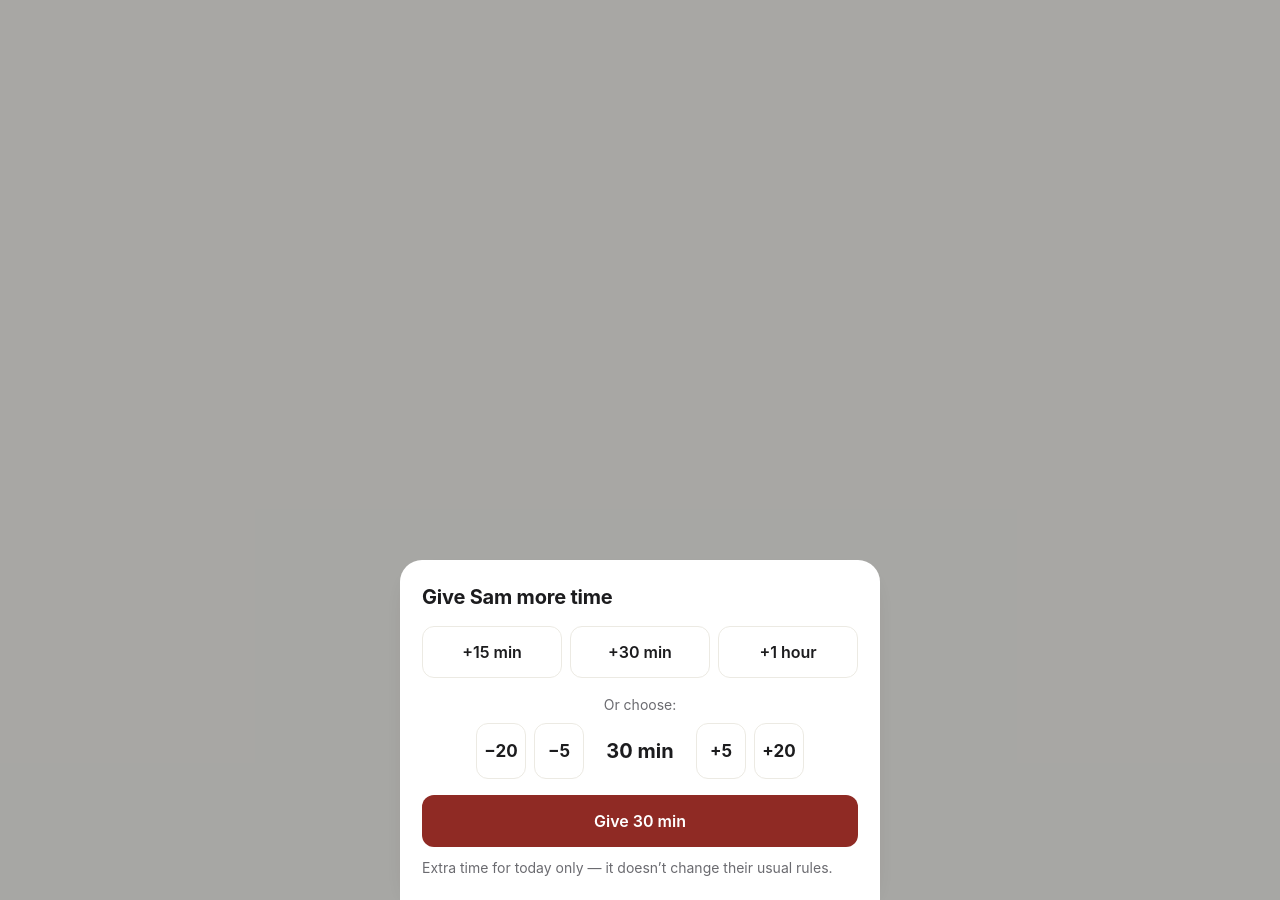
Scenario: LeverSheet › give › the outer buttons jump by twenty, and clamp at the ends like the fives
What coordinates should you click on to do the following:
click the button "+20"
I would click on:
 (779, 751)
Its box is [754,723,804,779].
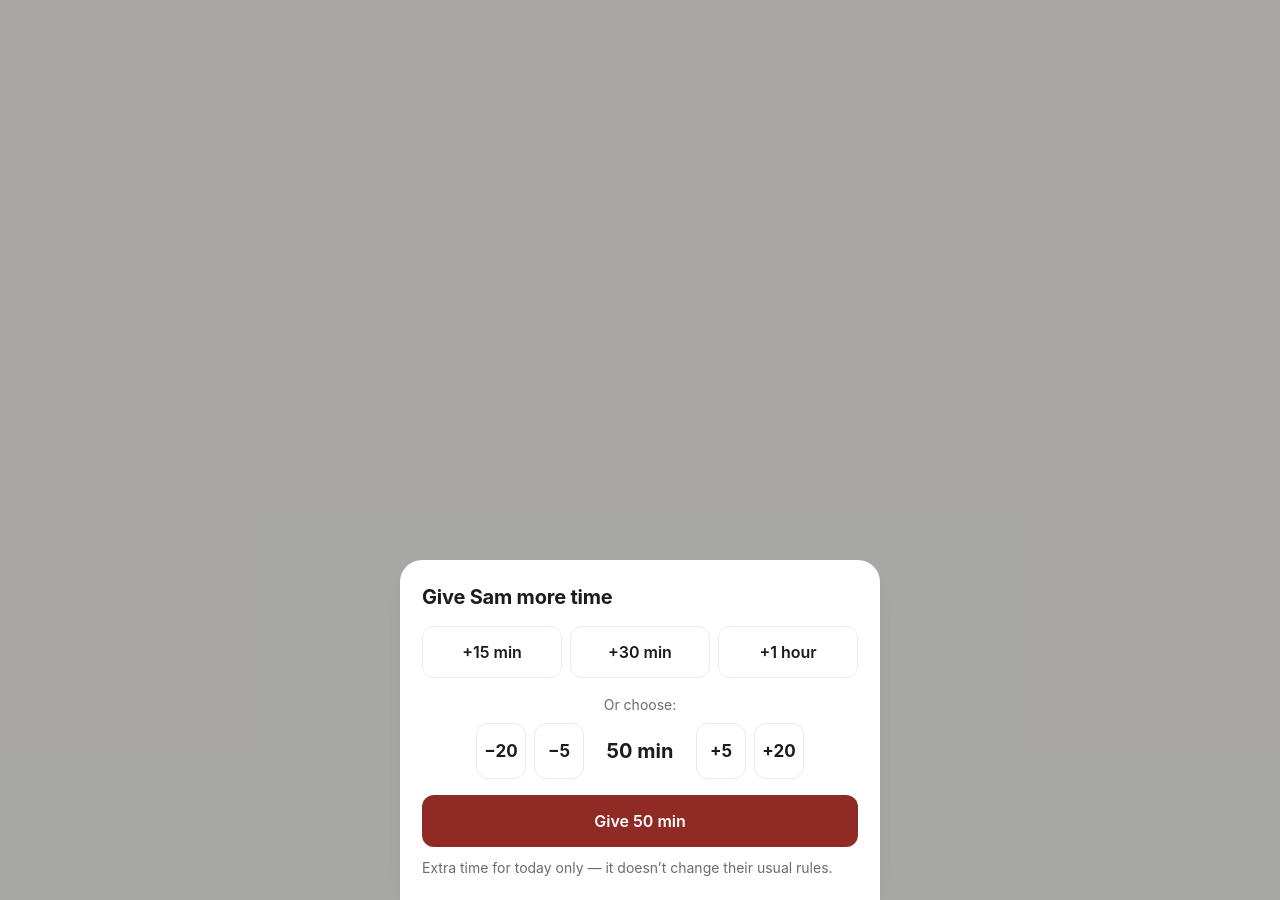
Result: the text "50 min" is shown at [607,739,673,763]
What coordinates should you click on to do the following:
click the button "−20"
I would click on:
 (501, 751)
Its box is [476,723,526,779].
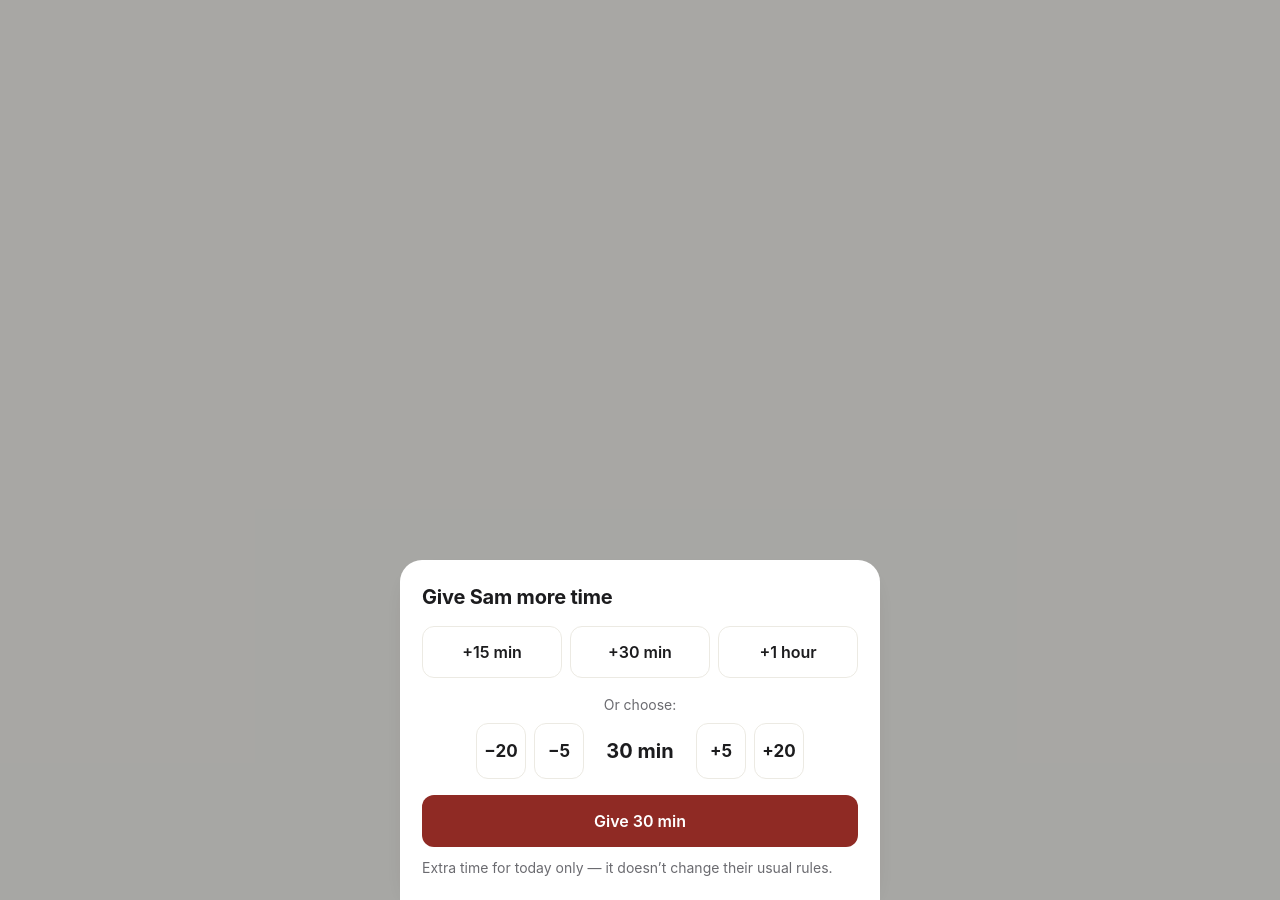
What coordinates should you click on to do the following:
click the button "−20"
I would click on:
 (501, 751)
Its box is [476,723,526,779].
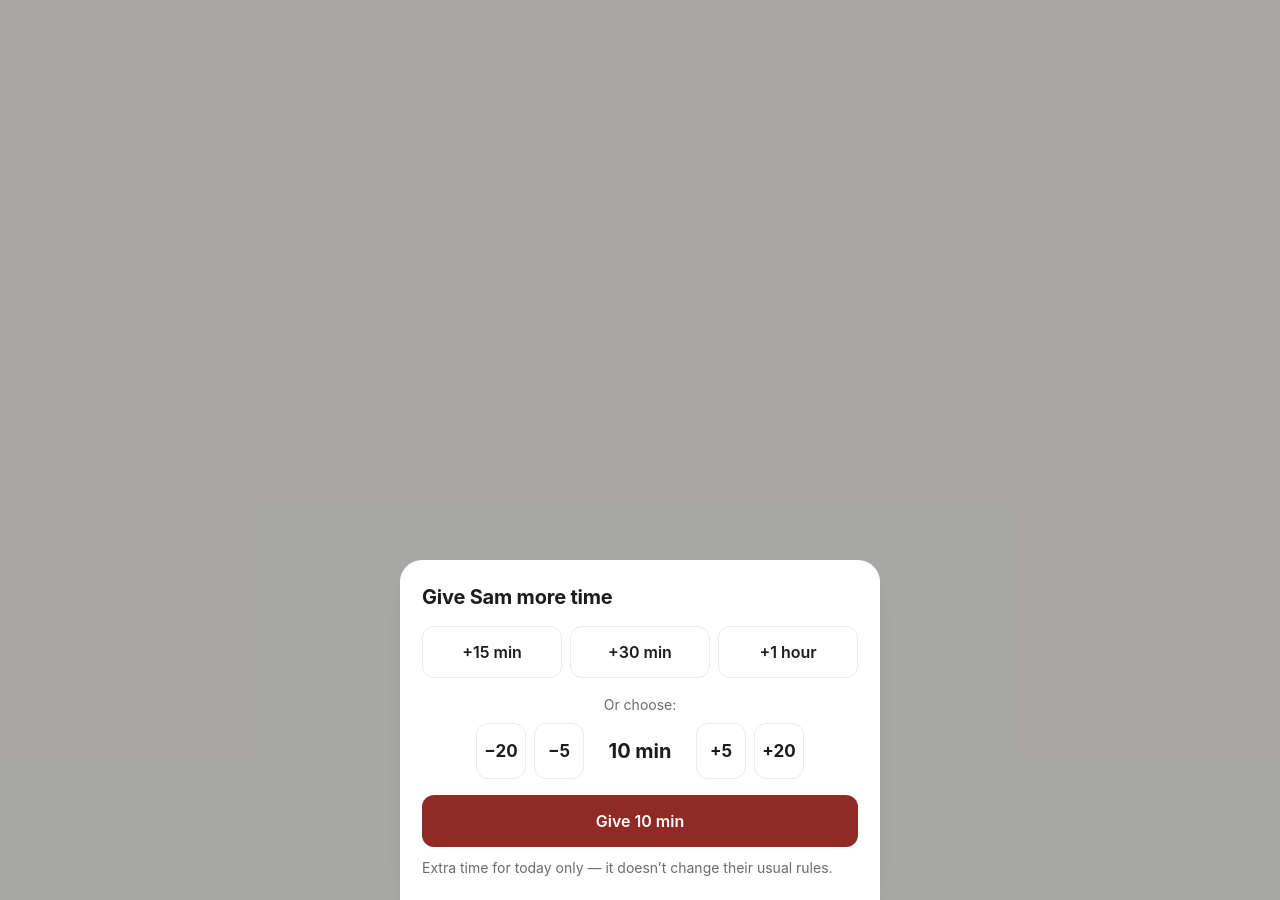
Result: the text "10 min" is shown at [608,739,672,763]
What coordinates should you click on to do the following:
click the button "−20"
I would click on:
 (501, 751)
Its box is [476,723,526,779].
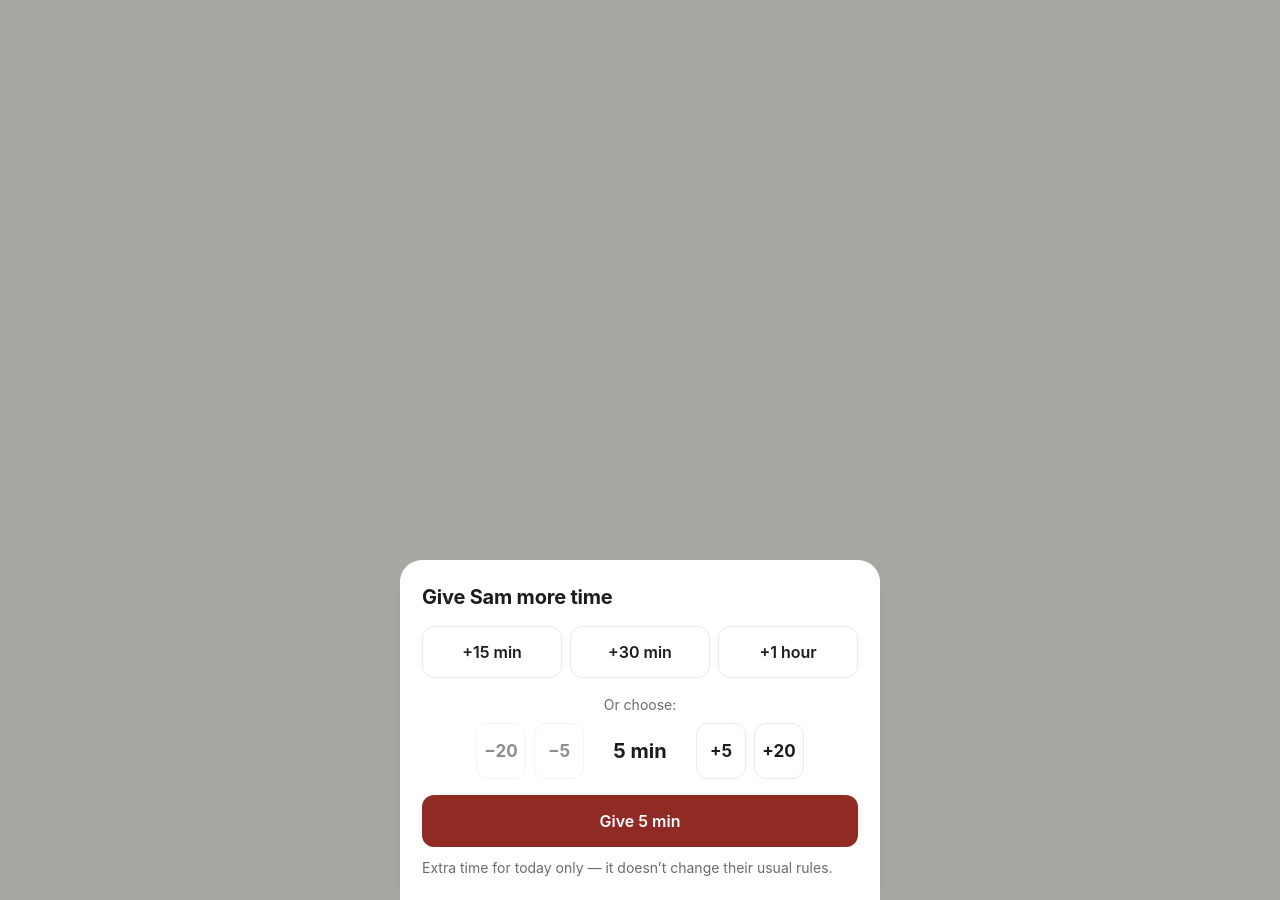
Expected: the text "5 min" is shown, [422,626,562,678]
Result: the button "−20" is disabled at [476,723,526,779]
Result: the button "−5" is disabled at [534,723,584,779]
